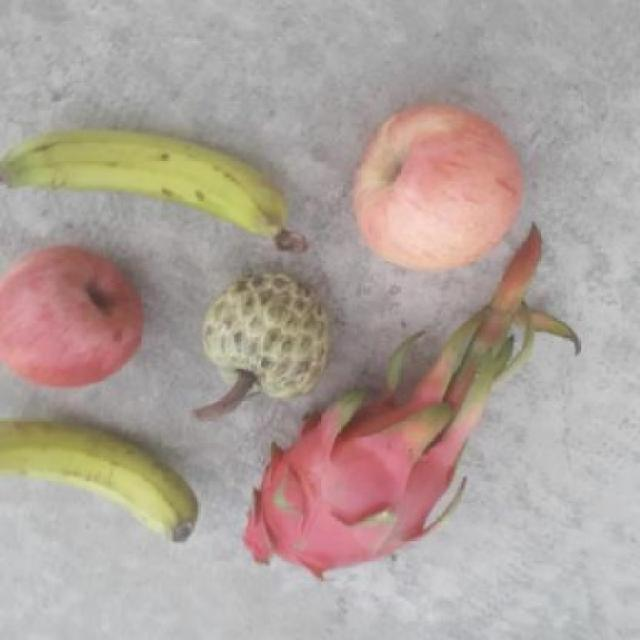apple: (348, 107, 528, 279), (1, 241, 152, 393)
banana: (0, 120, 314, 263), (1, 412, 205, 557)
dragon fruit: (237, 370, 472, 582)
sugar apple: (192, 275, 336, 404)
